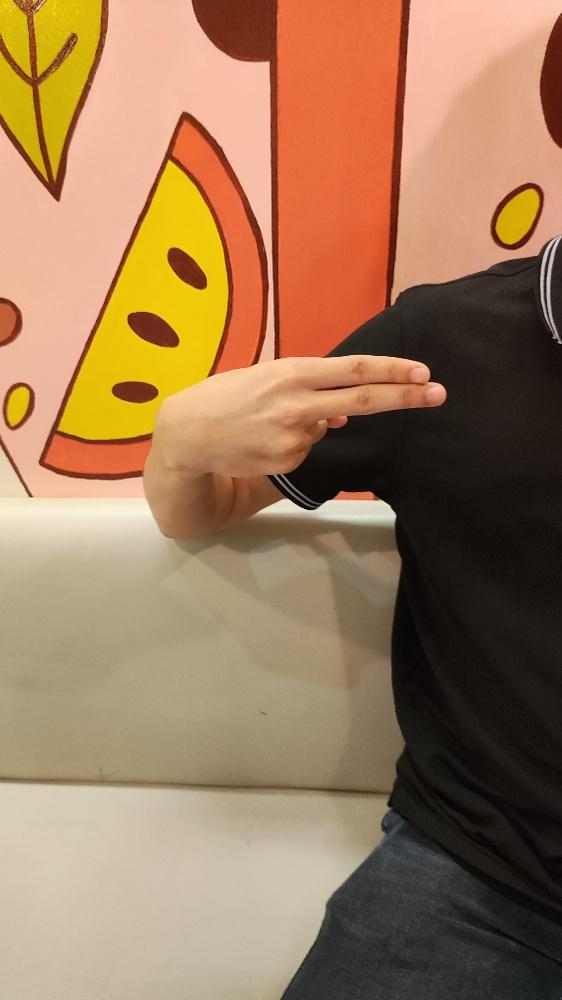h: (151, 350, 449, 480)
